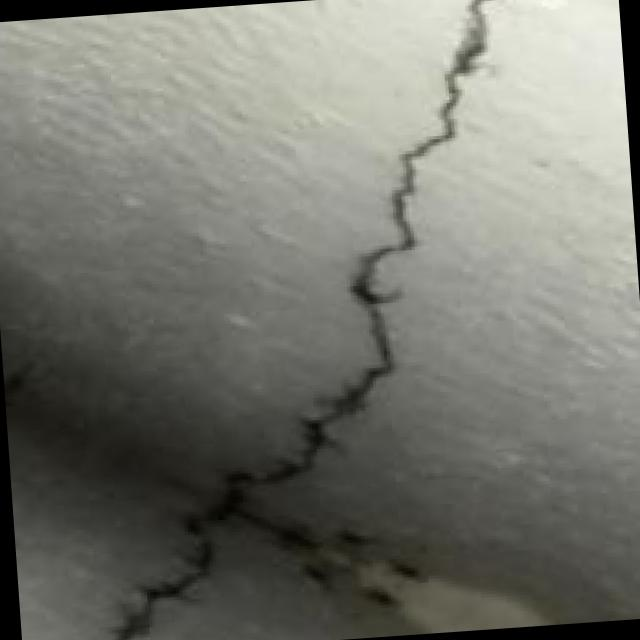crack: (74, 0, 565, 640)
